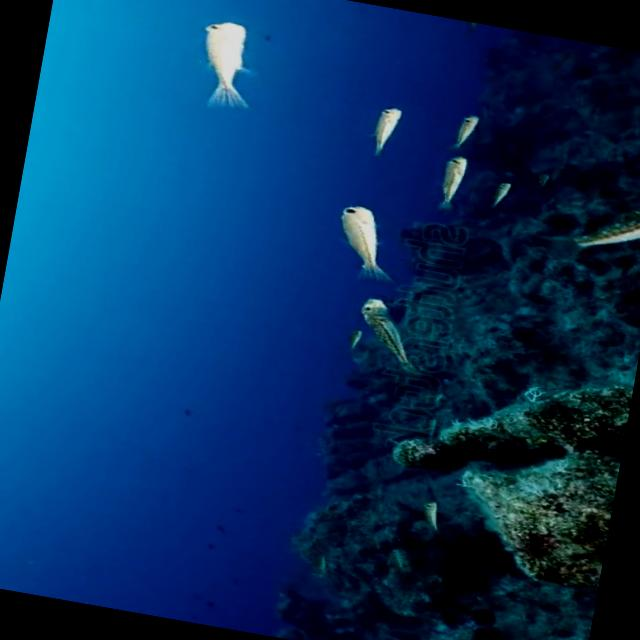Balon Baligi: (187, 15, 260, 116), (338, 292, 426, 372), (318, 195, 394, 274), (363, 101, 406, 158), (432, 155, 468, 213), (442, 109, 486, 154), (411, 493, 448, 532)
